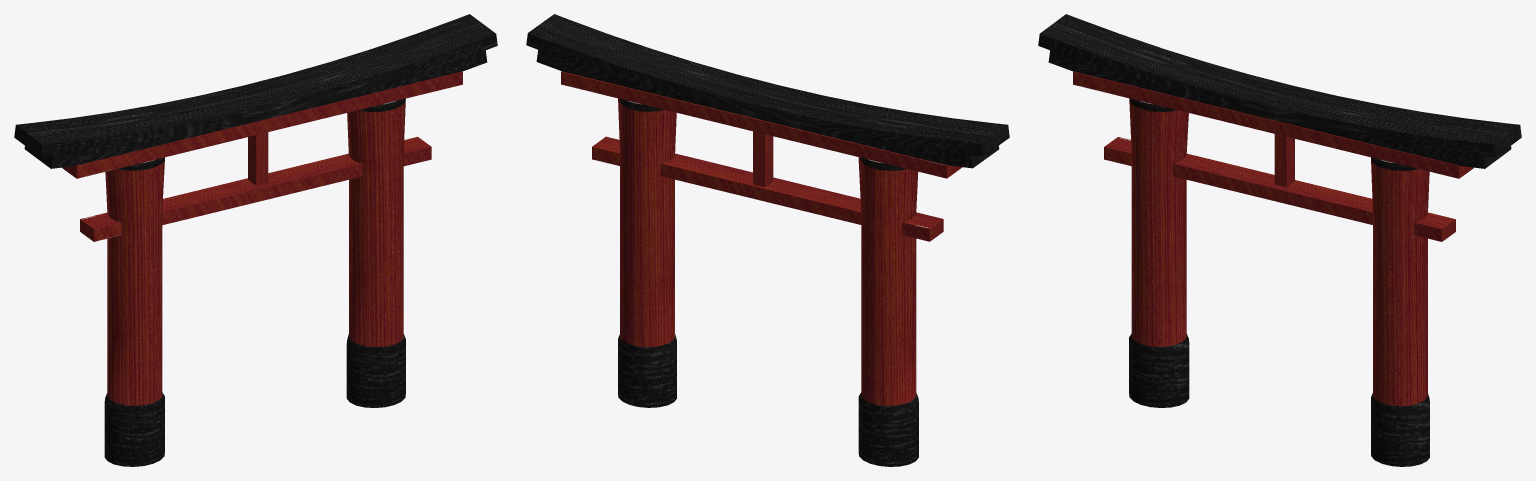
File: temple.FBX
The picture shows the model from 3 angles, left to right: view 1: azimuth 30°, elevation 25°; view 2: azimuth 150°, elevation 25°; view 3: azimuth 330°, elevation 25°; orthographic projection.
Visible parts, largest first — view 1: Box003, Cylinder003, Cylinder004, Box001, Box002, Box004; view 2: Box003, Cylinder003, Cylinder004, Box001, Box002, Box004; view 3: Box003, Cylinder003, Cylinder004, Box001, Box002, Box004.
Boxes of the visible parts, x1=… form: Box003: x1=14, y1=14, x2=497, y2=168; Cylinder003: x1=104, y1=157, x2=164, y2=466; Cylinder004: x1=346, y1=98, x2=405, y2=407; Box001: x1=80, y1=136, x2=431, y2=241; Box002: x1=62, y1=71, x2=462, y2=178; Box004: x1=248, y1=132, x2=268, y2=185; Box003: x1=526, y1=14, x2=1009, y2=168; Cylinder003: x1=858, y1=157, x2=918, y2=466; Cylinder004: x1=618, y1=98, x2=676, y2=407; Box001: x1=592, y1=136, x2=943, y2=241; Box002: x1=561, y1=71, x2=962, y2=178; Box004: x1=753, y1=131, x2=773, y2=187; Box003: x1=1038, y1=14, x2=1521, y2=168; Cylinder003: x1=1129, y1=98, x2=1189, y2=407; Cylinder004: x1=1371, y1=157, x2=1429, y2=466; Box001: x1=1104, y1=137, x2=1455, y2=241; Box002: x1=1073, y1=71, x2=1473, y2=178; Box004: x1=1274, y1=134, x2=1294, y2=187.
Bounding box in the file's own units: 746 × 540 × 78.74.
14 materials, 13 textured.
